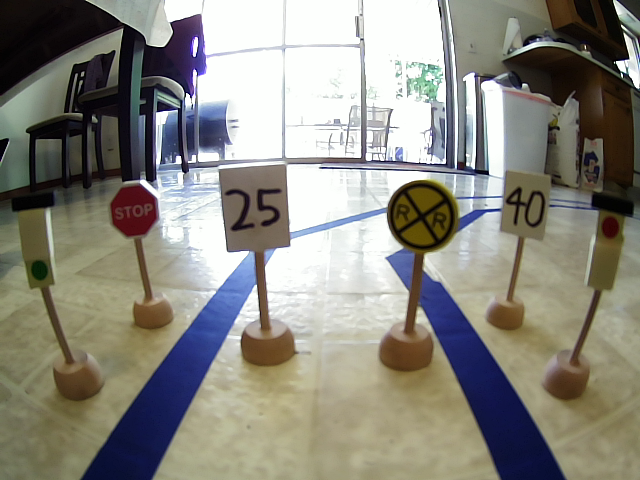25: (216, 160, 295, 253)
40: (501, 171, 554, 242)
green: (15, 189, 57, 291)
rail: (382, 176, 458, 254)
red: (585, 192, 638, 295)
stop: (106, 181, 161, 239)
